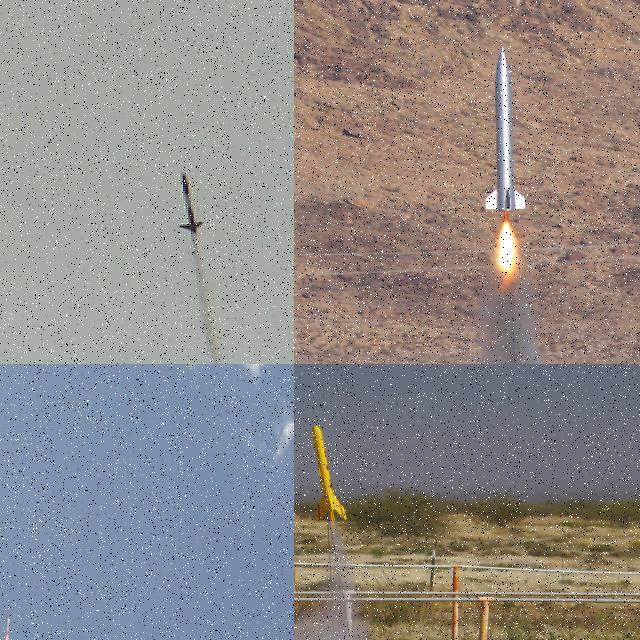Rocket: (486, 46, 526, 212), (311, 425, 348, 523), (178, 171, 205, 234), (294, 589, 300, 640), (6, 617, 10, 636)
